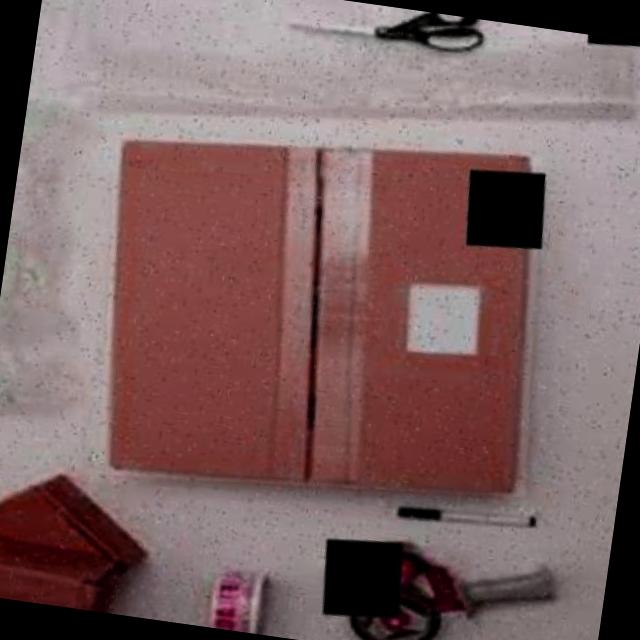box: (69, 96, 572, 534)
